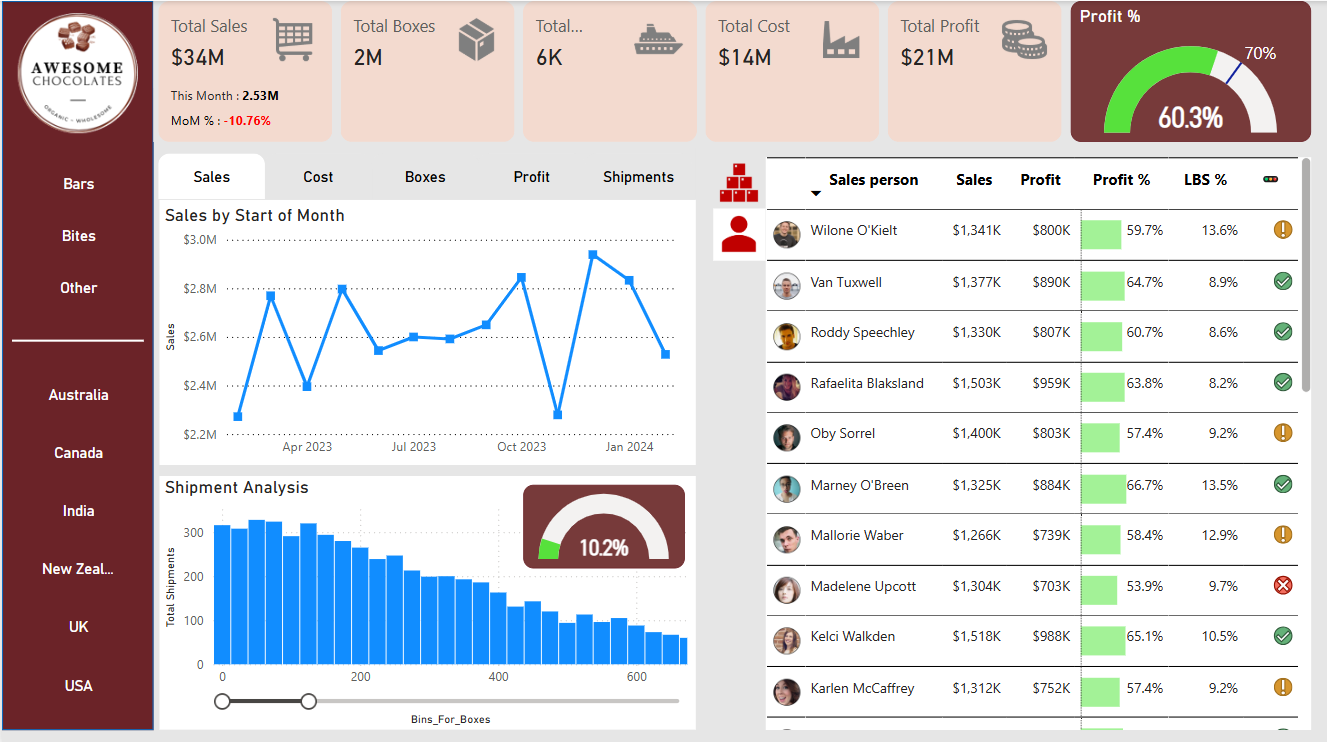

Layout of this report page (visuals, bound fields, positions):
{"tool":"powerbi","page":{"name":"Page 1","canvas":[1280,720],"ordinal":0},"visuals":[{"type":"shape","box":[0,0,146.2,703.8],"z":0},{"type":"cardVisual","fields":{"Data":["_measures.Total Sales","_measures.Total Boxes","_measures.Total Shipments","_measures.Total Cost","_measures.Total Profit"]},"box":[146.2,0,885,136.2],"z":1000},{"type":"gauge","fields":{"Y":["_measures.Profit %"]},"box":[1031.5,0,231.6,136.3],"z":2000},{"type":"lineChart","fields":{"Y":["_measures.Total Sales"],"Category":["calendar.Start of Month"]},"box":[152,191.8,517.6,255.8],"z":3000},{"type":"advancedSlicerVisual","fields":{"Values":["Parameter.Parameter"]},"box":[150.8,142.4,518.8,49.5],"z":4000},{"type":"image","title":"Company Logo","box":[0,1.2,146.2,136.2],"z":5000},{"type":"columnChart","title":"Shipment Analysis","fields":{"Category":["shipments.Bins_For_Boxes"],"Y":["_measures.Total Shipments"]},"box":[152,458.4,517.6,244.9],"z":6000},{"type":"gauge","fields":{"Y":["_measures.LBS %"]},"box":[503.1,466.9,155.6,80.8],"z":7000},{"type":"tableEx","title":"People Details","fields":{"Values":["people.Picture","people.Sales person","_measures.Total Sales","_measures.Total Profit","_measures.Profit %","_measures.LBS %","_measures.Profit Indicator"]},"box":[737.1,150.8,526,552.5],"z":8000},{"type":"image","title":"icnProduct_Unselected","box":[686.9,150.6,50,50],"z":11000},{"type":"image","title":"icnPeople_Selected","box":[686.9,200.6,50,50],"z":13000},{"type":"advancedSlicerVisual","fields":{"Values":["locations.Geo"]},"box":[20,351.2,107.5,340],"z":13001},{"type":"advancedSlicerVisual","fields":{"Values":["products.Category"]},"box":[20,150,107.5,152.5],"z":13002},{"type":"shape","box":[10,302.5,127.5,50],"z":13003}]}

Visuals, with their boxes in screenshot pixels (x1, y1, x2, y2), scaled from the page's 1280x720 canvas onto the 1327x742 screenshot:
shape: (x1=0, y1=0, x2=152, y2=725)
cardVisual - _measures.Total Sales x _measures.Total Boxes: (x1=152, y1=0, x2=1069, y2=140)
gauge - _measures.Profit %: (x1=1069, y1=0, x2=1309, y2=140)
lineChart - _measures.Total Sales x calendar.Start of Month: (x1=158, y1=198, x2=694, y2=461)
advancedSlicerVisual - Parameter.Parameter: (x1=156, y1=147, x2=694, y2=198)
"Company Logo" image: (x1=0, y1=1, x2=152, y2=142)
"Shipment Analysis" columnChart: (x1=158, y1=472, x2=694, y2=725)
gauge - _measures.LBS %: (x1=522, y1=481, x2=683, y2=564)
"People Details" tableEx: (x1=764, y1=155, x2=1309, y2=725)
"icnProduct_Unselected" image: (x1=712, y1=155, x2=764, y2=207)
"icnPeople_Selected" image: (x1=712, y1=207, x2=764, y2=258)
advancedSlicerVisual - locations.Geo: (x1=21, y1=362, x2=132, y2=712)
advancedSlicerVisual - products.Category: (x1=21, y1=155, x2=132, y2=312)
shape: (x1=10, y1=312, x2=143, y2=363)
